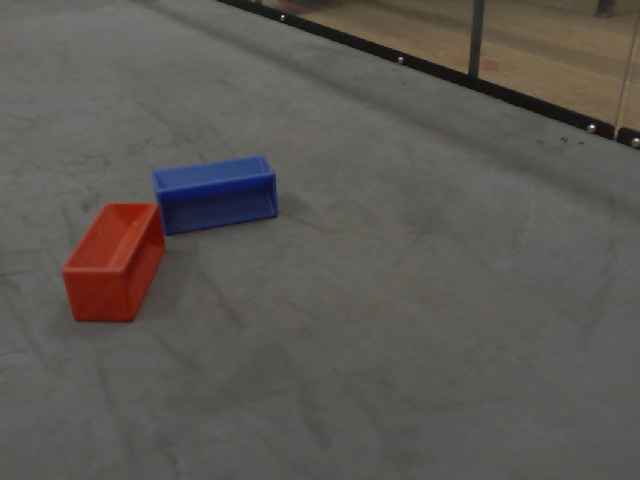BlueSample: (149, 153, 281, 234)
RedSample: (58, 200, 168, 328)
